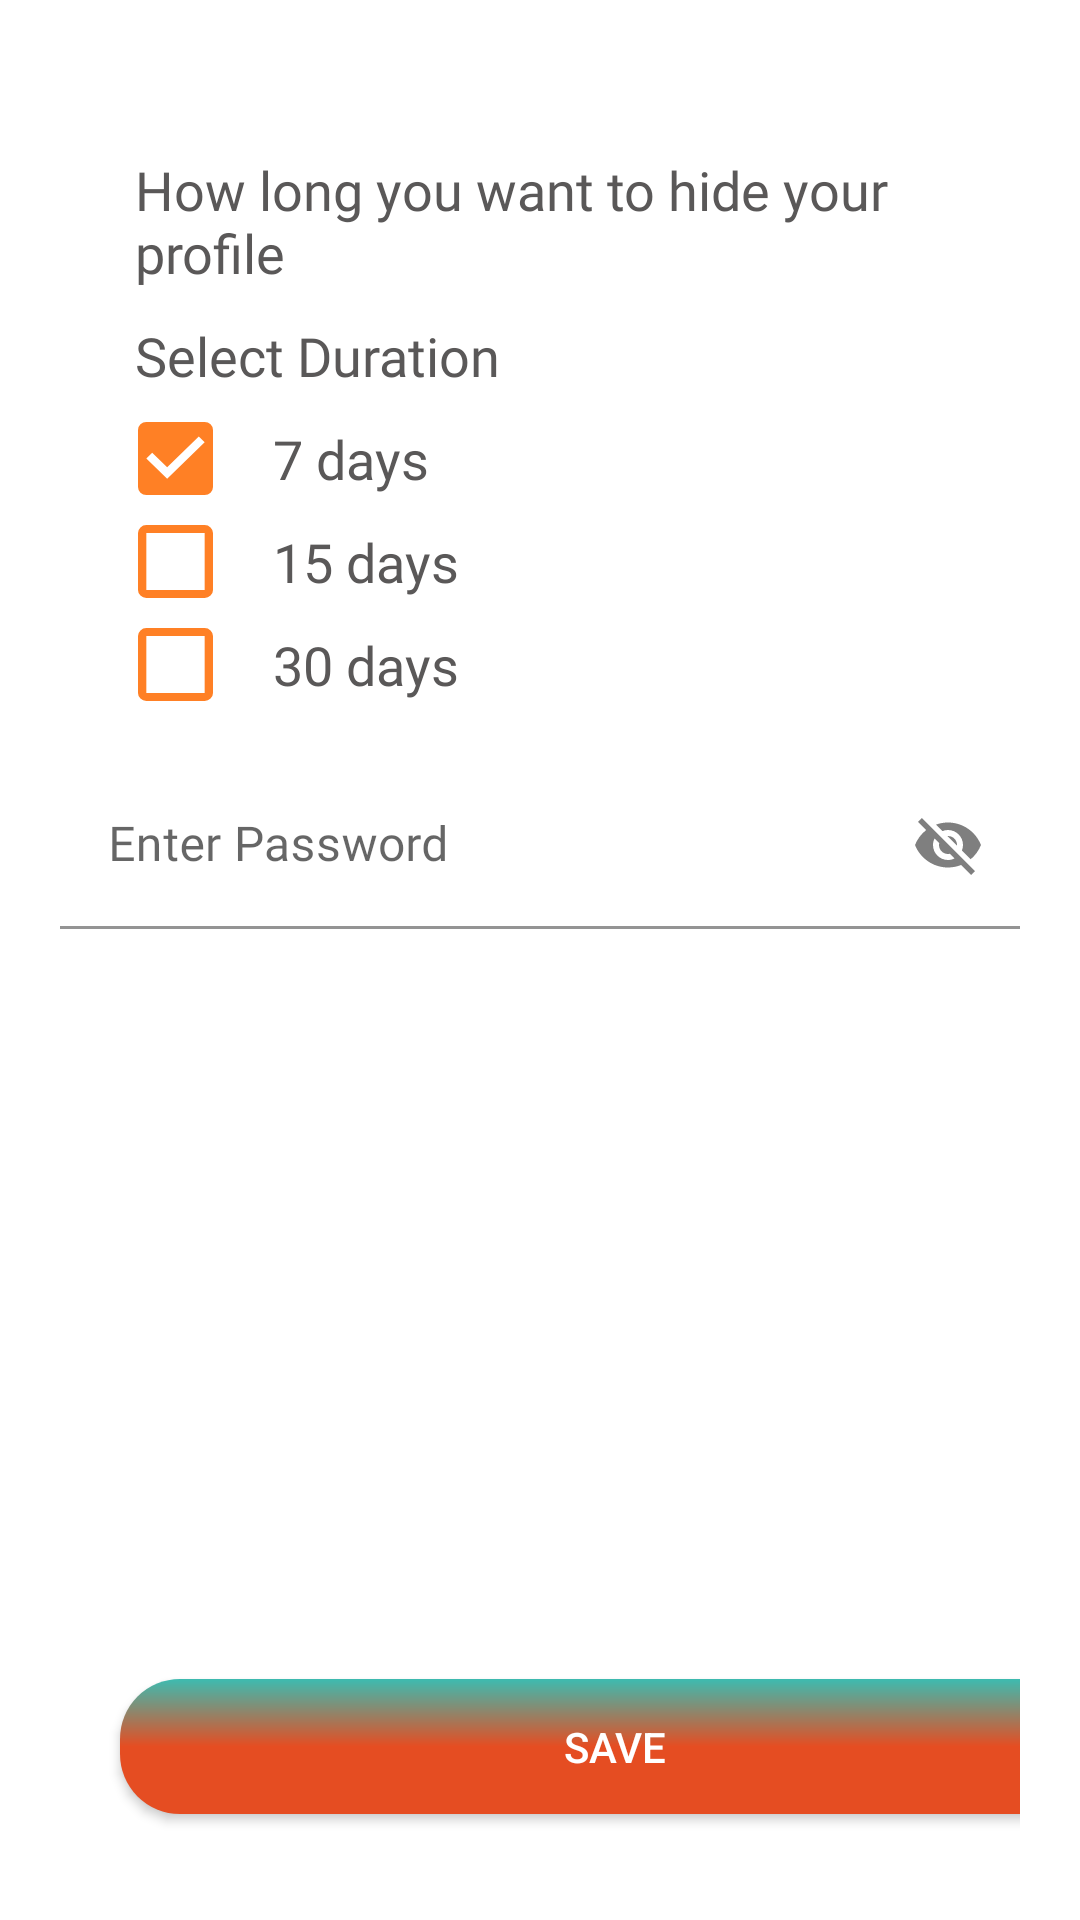

Where to tap for icons on this 1080x1920 app screen, as point (x, y):
selection control checkbox off: point (175, 561), point (175, 664)
selection control checkbox on: point (175, 458)
